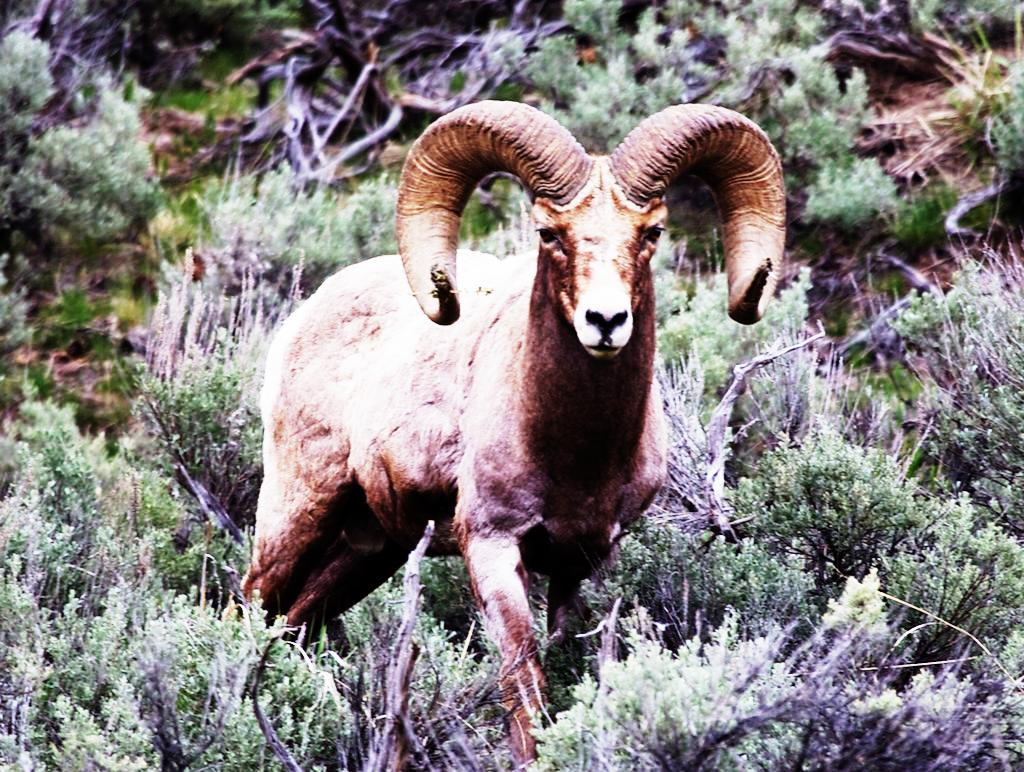Sheep: (236, 98, 791, 769)
